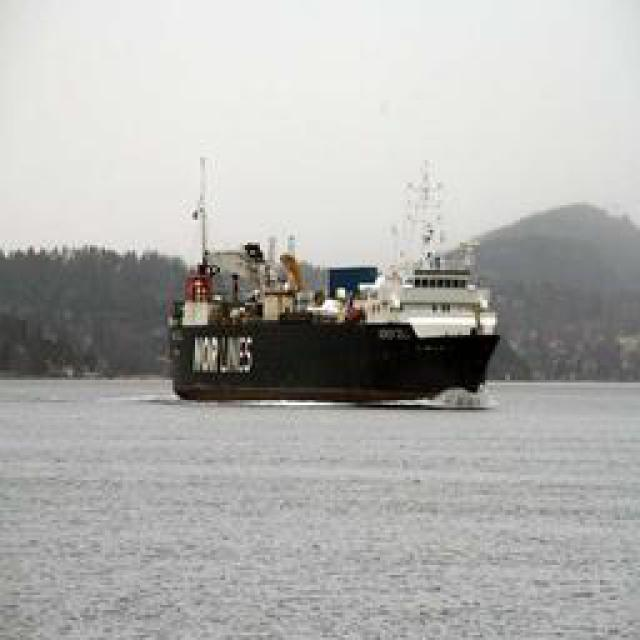Ship: (163, 146, 501, 404)
